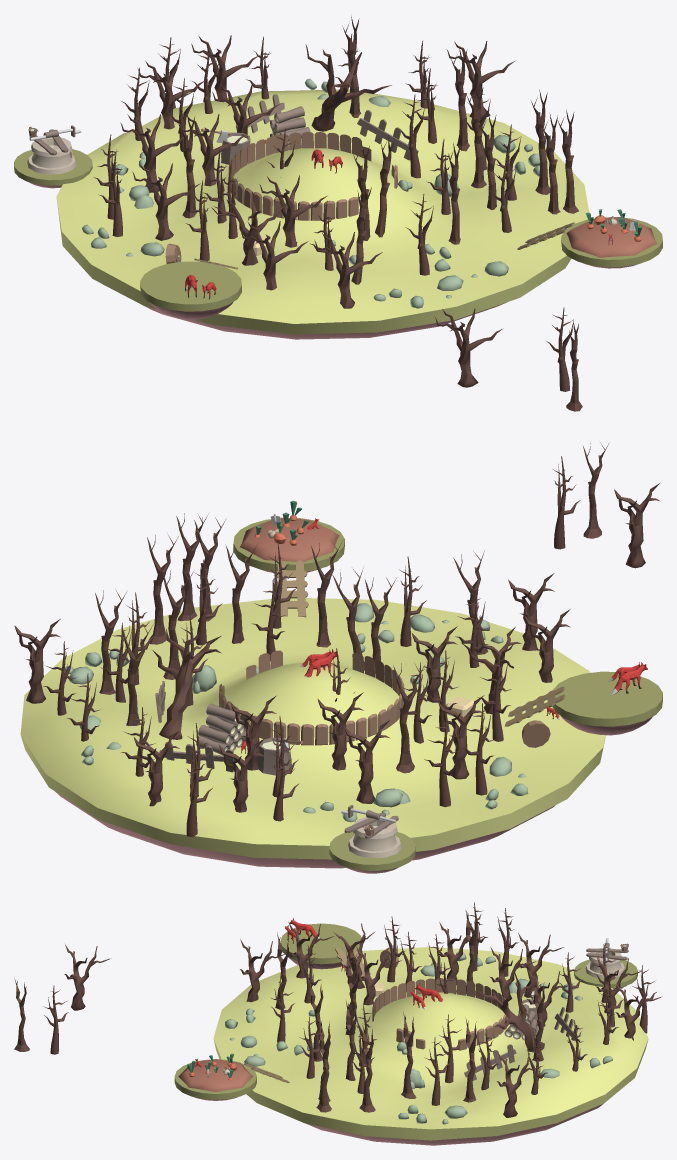
The model's file is Test2IslandConcert.glb.
3 renders of one model, top to bottom at view 1: azimuth 30°, elevation 25°; view 2: azimuth 150°, elevation 25°; view 3: azimuth 270°, elevation 25°, orthographic. The views are drawn at different scales.
Parts seen in each view (by area): view 1: pCylinder11, polySurface1188, pCube205, dead_tree.001_0.005, pSphere1, polySurface1208, polySurface1522, dead_tree.001, dead_tree.001_0.001, dead_tree.001_0.007, dead_tree.001_0.008, dead_tree.001_0.009 (+32 smaller); view 2: pCylinder11, polySurface1188, pCube205, pSphere1, dead_tree.001_0.005, polySurface1522, polySurface1489, polySurface1208, dead_tree.001, dead_tree.001_0.012, dead_tree.001_0.006, polySurface898 (+42 smaller); view 3: pCylinder11, polySurface1188, pCube205, pSphere1, dead_tree.001_0.005, polySurface1208, polySurface1522, dead_tree.001, dead_tree.001_0.012, dead_tree.001_0.007, dead_tree.001_0.008, dead_tree.001_0.006 (+36 smaller).
Boxes of the visible parts, x1,y1,x2,y2 form: pCylinder11: (56,89,589,334); polySurface1188: (140,261,241,311); pCube205: (566,217,656,257); dead_tree.001_0.005: (305,44,391,131); pSphere1: (103,284,507,339); polySurface1208: (561,217,662,266); polySurface1522: (14,149,92,185); dead_tree.001: (435,308,503,387); dead_tree.001_0.001: (132,163,200,240); dead_tree.001_0.007: (314,232,382,308); dead_tree.001_0.008: (259,175,327,247); dead_tree.001_0.009: (179,114,246,186); pCylinder11: (20,598,605,859); polySurface1188: (552,671,662,726); pCube205: (240,517,339,562); pSphere1: (56,792,554,868); dead_tree.001_0.005: (152,628,221,739); polySurface1522: (329,831,415,870); polySurface1489: (196,703,246,755); polySurface1208: (233,517,344,571); dead_tree.001: (614,483,660,568); dead_tree.001_0.012: (14,619,60,703); dead_tree.001_0.006: (344,720,390,803); polySurface898: (276,560,308,617); pCylinder11: (213,947,648,1140); polySurface1188: (280,923,362,964); pCube205: (178,1059,252,1091); pSphere1: (306,1103,603,1145); dead_tree.001_0.005: (478,971,544,1052); polySurface1208: (174,1059,256,1099); polySurface1522: (574,959,637,988); dead_tree.001: (64,944,110,1010); dead_tree.001_0.012: (497,1051,543,1117); dead_tree.001_0.007: (240,939,286,1002); dead_tree.001_0.008: (356,946,401,1005); dead_tree.001_0.006: (518,932,564,997).
Size of the model in its own units: 80.95 by 30.34 by 118.
